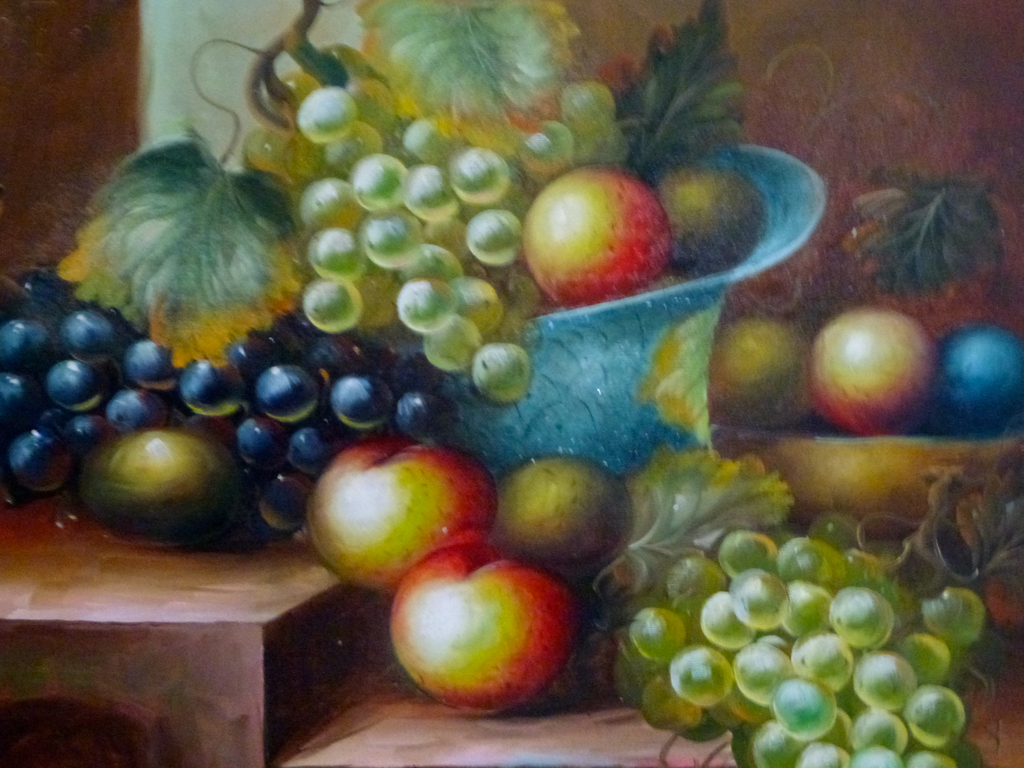Apple: (307, 433, 498, 591), (388, 552, 570, 711), (521, 160, 673, 308), (808, 307, 936, 434)
